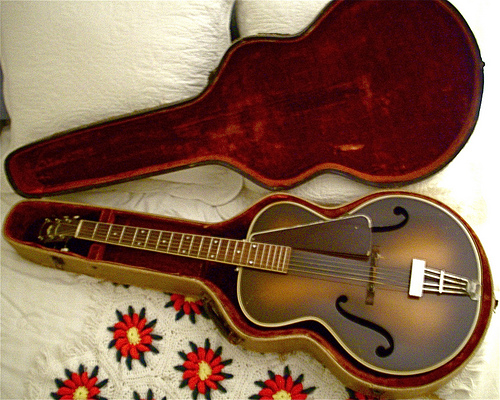guitar: (37, 195, 484, 378)
